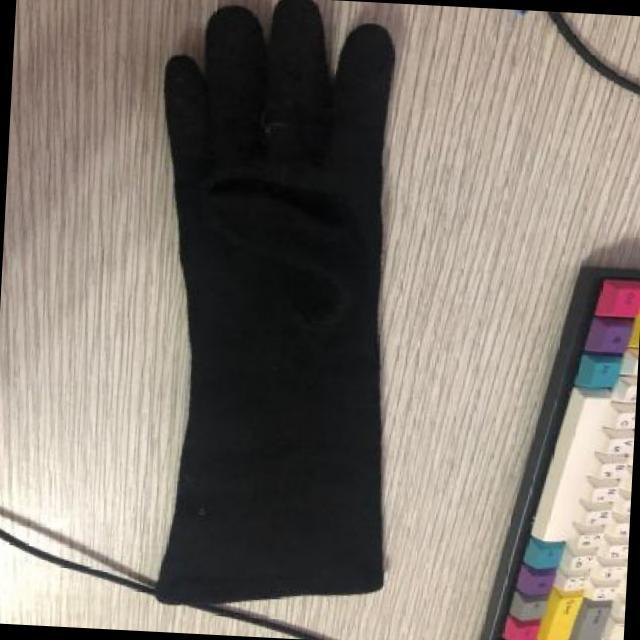glove: (157, 1, 396, 603)
